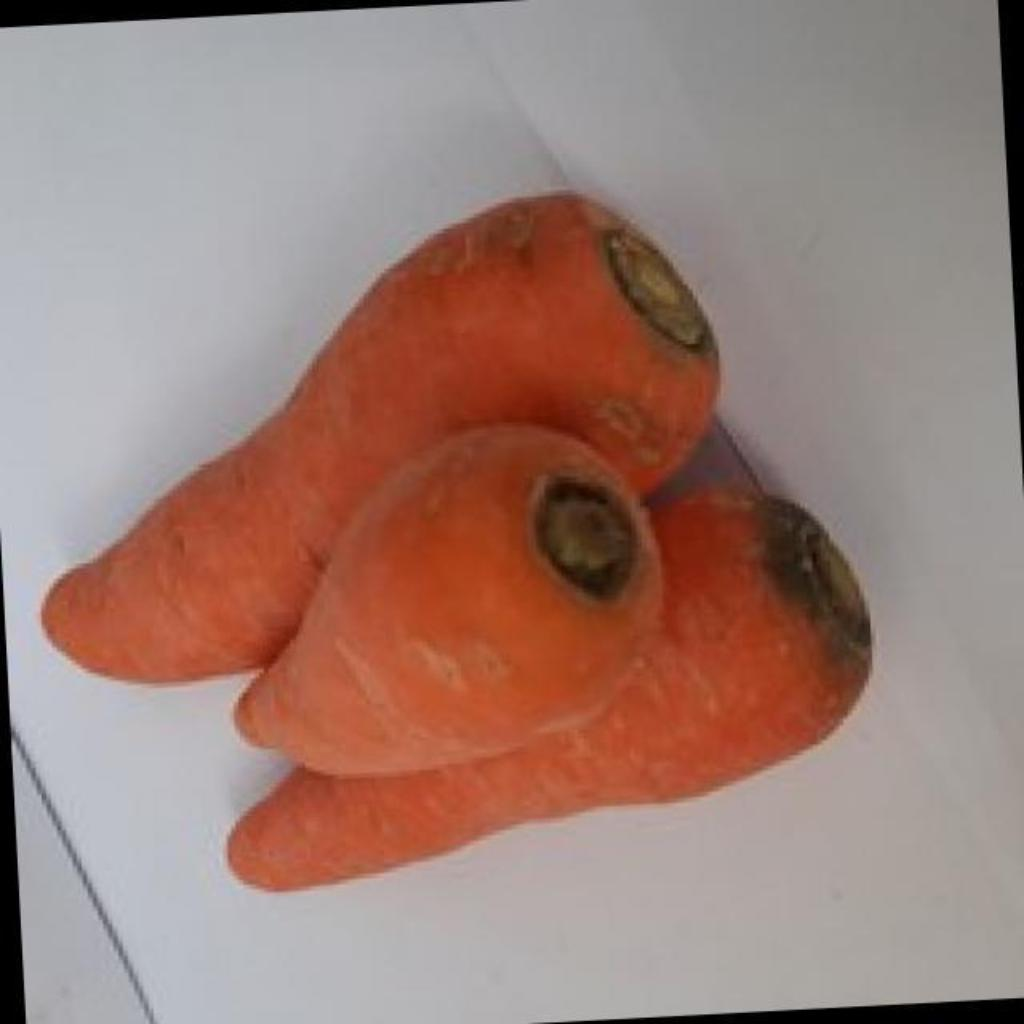carrot: (44, 194, 718, 681), (228, 487, 870, 891), (238, 426, 660, 776)
